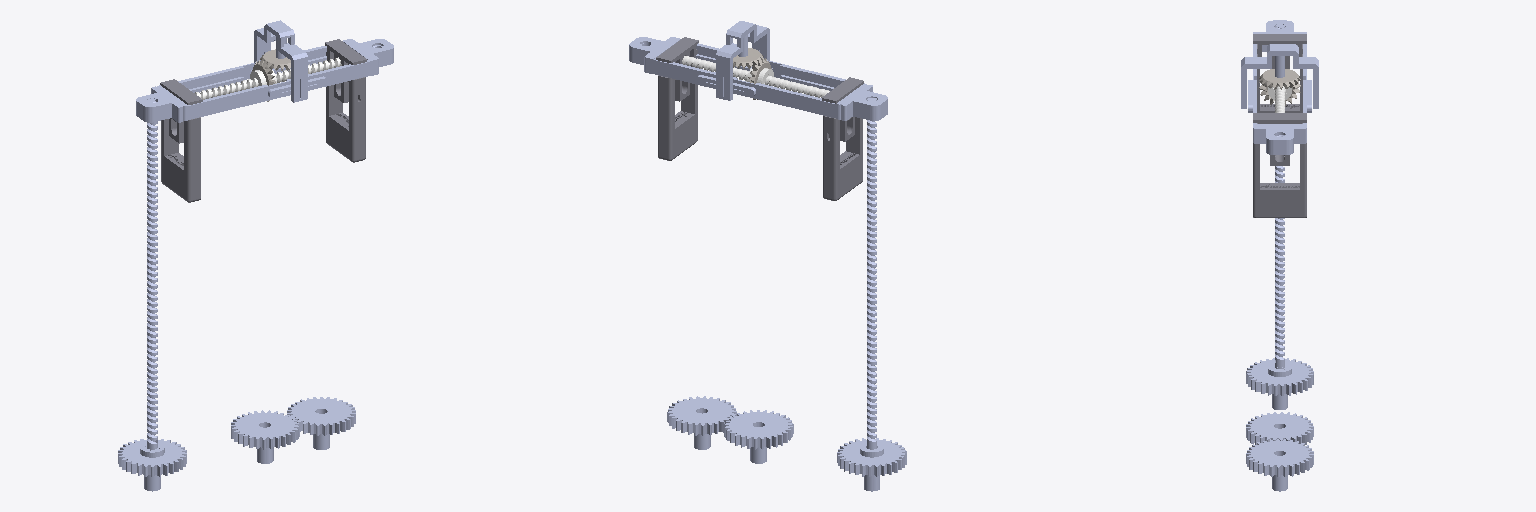
The robot description file, URDF, robot "solidworks2ros_try35":
<?xml version="1.0" encoding="utf-8"?>
<!-- This URDF was automatically created by SolidWorks to URDF Exporter! Originally created by [author] ([email redacted]) 
     Commit Version: 1.6.0-4-g7f85cfe  Build Version: 1.6.7995.38578
     For more information, please see http://wiki.ros.org/sw_urdf_exporter -->
<robot
  name="solidworks2ros_try35">

  <link name = "dummy">
  </link>

  <joint name="dummy_joint" type="fixed">
    <parent link="dummy"/>
    <child link="base_link"/>
  </joint>

  <link name="base_link">
    <inertial>
      <origin
        xyz="0.27421 -0.14456 0.35358"
        rpy="0 0 0" />
      <mass
        value="3338.7" />
      <inertia
        ixx="1620.8"
        ixy="5.8895E-06"
        ixz="0.005018"
        iyy="13518"
        iyz="-16.336"
        izz="14637" />
    </inertial>
    <visual>
      <origin
        xyz="0 0 0"
        rpy="0 0 0" />
      <geometry>
        <mesh
          filename="package://solidworks2ros_try35/meshes/base_link.STL" />
      </geometry>
      <material
        name="">
        <color
          rgba="0.79216 0.81961 0.93333 1" />
      </material>
    </visual>
    <collision>
      <origin
        xyz="0 0 0"
        rpy="0 0 0" />
      <geometry>
        <mesh
          filename="package://solidworks2ros_try35/meshes/base_link.STL" />
      </geometry>
    </collision>
  </link>

  <link
    name="link1">
    <inertial>
      <origin
        xyz="-0.0028443 0.0029656 1.6945"
        rpy="0 0 0" />
      <mass
        value="823.32" />
      <inertia
        ixx="2630.9"
        ixy="0.034568"
        ixz="-0.0063149"
        iyy="2630.9"
        iyz="0.23572"
        izz="118.2" />
    </inertial>
    <visual>
      <origin
        xyz="0 0 0"
        rpy="0 0 0" />
      <geometry>
        <mesh
          filename="package://solidworks2ros_try35/meshes/link1.STL" />
      </geometry>
      <material
        name="">
        <color
          rgba="0.79216 0.81961 0.93333 1" />
      </material>
    </visual>
    <collision>
      <origin
        xyz="0 0 0"
        rpy="0 0 0" />
      <geometry>
        <mesh
          filename="package://solidworks2ros_try35/meshes/link1.STL" />
      </geometry>
    </collision>
  </link>
  
  <joint
    name="joint1"
    type="continuous">
    <origin
      xyz="2.9619 -0.0029702 0.85629"
      rpy="0 0 0" />
    <parent
      link="base_link" />
    <child
      link="link1" />
    <axis
      xyz="0 0 -1" />
    <limit
      effort="100"
      velocity="2" />
  </joint>

  <link name="link2">
    <inertial>
      <origin
        xyz="0.0039258 0.0012118 -0.059794"
        rpy="0 0 0" />
      <mass
        value="479.53" />
      <inertia
        ixx="62.098"
        ixy="2.1851E-14"
        ixz="-1.9085E-13"
        iyy="62.098"
        iyz="-4.9674E-14"
        izz="114.95" />
    </inertial>
    <visual>
      <origin
        xyz="0 0 0"
        rpy="0 0 0" />
      <geometry>
        <mesh
          filename="package://solidworks2ros_try35/meshes/link2.STL" />
      </geometry>
      <material
        name="">
        <color
          rgba="0.79216 0.81961 0.93333 1" />
      </material>
    </visual>
    <collision>
      <origin
        xyz="0 0 0"
        rpy="0 0 0" />
      <geometry>
        <mesh
          filename="package://solidworks2ros_try35/meshes/link2.STL" />
      </geometry>
    </collision>
  </link>
  
  <joint name="joint2"
    type="continuous">
    <origin
      xyz="1.4756 -0.0012118 0.85629"
      rpy="0 0 0" />
    <parent
      link="base_link" />
    <child
      link="link2" />
    <axis
      xyz="0 0 -1" />
    <limit
      effort="100"
      velocity="2" />
  </joint>
  
  <link
    name="link3">
    <inertial>
      <origin
        xyz="-0.0028446 0.0029646 -0.059794"
        rpy="0 0 0" />
      <mass
        value="479.53" />
      <inertia
        ixx="62.098"
        ixy="-2.0492E-14"
        ixz="1.748E-13"
        iyy="62.098"
        iyz="1.8841E-14"
        izz="114.95" />
    </inertial>
    <visual>
      <origin
        xyz="0 0 0"
        rpy="0 0 0" />
      <geometry>
        <mesh
          filename="package://solidworks2ros_try35/meshes/link3.STL" />
      </geometry>
      <material
        name="">
        <color
          rgba="0.79216 0.81961 0.93333 1" />
      </material>
    </visual>
    <collision>
      <origin
        xyz="0 0 0"
        rpy="0 0 0" />
      <geometry>
        <mesh
          filename="package://solidworks2ros_try35/meshes/link3.STL" />
      </geometry>
    </collision>
  </link>
  <joint
    name="joint3"
    type="continuous">
    <origin
      xyz="0.0028446 -0.0029646 0.85629"
      rpy="0 0 0" />
    <parent
      link="base_link" />
    <child
      link="link3" />
    <axis
      xyz="0 0 -1" />
    <limit
      effort="100"
      velocity="2" />
  </joint>
  <link
    name="link4">
    <inertial>
      <origin
        xyz="0.0039363 0.0011773 -0.059794"
        rpy="0 0 0" />
      <mass
        value="479.53" />
      <inertia
        ixx="62.098"
        ixy="3.0743E-14"
        ixz="-3.4524E-14"
        iyy="62.098"
        iyz="-2.8969E-14"
        izz="114.95" />
    </inertial>
    <visual>
      <origin
        xyz="0 0 0"
        rpy="0 0 0" />
      <geometry>
        <mesh
          filename="package://solidworks2ros_try35/meshes/link4.STL" />
      </geometry>
      <material
        name="">
        <color
          rgba="0.79216 0.81961 0.93333 1" />
      </material>
    </visual>
    <collision>
      <origin
        xyz="0 0 0"
        rpy="0 0 0" />
      <geometry>
        <mesh
          filename="package://solidworks2ros_try35/meshes/link4.STL" />
      </geometry>
    </collision>
  </link>
  <joint
    name="joint4"
    type="continuous">
    <origin
      xyz="-1.4835 -0.0011773 0.85629"
      rpy="0 0 0" />
    <parent
      link="base_link" />
    <child
      link="link4" />
    <axis
      xyz="0 0 -1" />
    <limit
      effort="100"
      velocity="2" />
  </joint>
  <link
    name="link5">
    <inertial>
      <origin
        xyz="-0.0040861 0.00049413 1.6945"
        rpy="0 0 0" />
      <mass
        value="823.32" />
      <inertia
        ixx="2630.9"
        ixy="0.0059088"
        ixz="0.17812"
        iyy="2630.8"
        iyz="0.15453"
        izz="118.2" />
    </inertial>
    <visual>
      <origin
        xyz="0 0 0"
        rpy="0 0 0" />
      <geometry>
        <mesh
          filename="package://solidworks2ros_try35/meshes/link5.STL" />
      </geometry>
      <material
        name="">
        <color
          rgba="0.79216 0.81961 0.93333 1" />
      </material>
    </visual>
    <collision>
      <origin
        xyz="0 0 0"
        rpy="0 0 0" />
      <geometry>
        <mesh
          filename="package://solidworks2ros_try35/meshes/link5.STL" />
      </geometry>
    </collision>
  </link>
  <joint
    name="joint5"
    type="continuous">
    <origin
      xyz="-2.955 -0.00049273 0.85629"
      rpy="0 0 0" />
    <parent
      link="base_link" />
    <child
      link="link5" />
    <axis
      xyz="0 0 -1" />
    <limit
      effort="100"
      velocity="2" />
  </joint>
  <link
    name="link6">
    <inertial>
      <origin
        xyz="-0.29136 0.0012221 -0.36273"
        rpy="0 0 0" />
      <mass
        value="1056.6" />
      <inertia
        ixx="266.76"
        ixy="-1.8648E-06"
        ixz="1.3768E-13"
        iyy="884.97"
        iyz="-1.0553"
        izz="1059.3" />
    </inertial>
    <visual>
      <origin
        xyz="0 0 0"
        rpy="0 0 0" />
      <geometry>
        <mesh
          filename="package://solidworks2ros_try35/meshes/link6.STL" />
      </geometry>
      <material
        name="">
        <color
          rgba="0.79216 0.81961 0.93333 1" />
      </material>
    </visual>
    <collision>
      <origin
        xyz="0 0 0"
        rpy="0 0 0" />
      <geometry>
        <mesh
          filename="package://solidworks2ros_try35/meshes/link6.STL" />
      </geometry>
    </collision>
  </link>
  <joint
    name="joint6"
    type="prismatic">
    <origin
      xyz="0.41726 0 10.132"
      rpy="0 0 0" />
    <parent
      link="base_link" />
    <child
      link="link6" />
    <axis
      xyz="0 0 1" />
    <limit
      lower="-2"
      upper="5"
      effort="1"
      velocity="2" />
  </joint>
  <link
    name="link7">
    <inertial>
      <origin
        xyz="-0.96876 -0.00015639 -0.00040474"
        rpy="0 0 0" />
      <mass
        value="110.61" />
      <inertia
        ixx="1.7188"
        ixy="-0.036134"
        ixz="0.032169"
        iyy="65.104"
        iyz="0.0012089"
        izz="65.105" />
    </inertial>
    <visual>
      <origin
        xyz="0 0 0"
        rpy="0 0 0" />
      <geometry>
        <mesh
          filename="package://solidworks2ros_try35/meshes/link7.STL" />
      </geometry>
      <material
        name="">
        <color
          rgba="1 1 1 1" />
      </material>
    </visual>
    <collision>
      <origin
        xyz="0 0 0"
        rpy="0 0 0" />
      <geometry>
        <mesh
          filename="package://solidworks2ros_try35/meshes/link7.STL" />
      </geometry>
    </collision>
  </link>
  <joint
    name="joint7"
    type="continuous">
    <origin
      xyz="-0.4572 0 -0.508"
      rpy="0 0 0" />
    <parent
      link="link6" />
    <child
      link="link7" />
    <axis
      xyz="1 0 0" />
    <limit
      effort="100"
      velocity="2" />
  </joint>
  <link
    name="lilnk8">
    <inertial>
      <origin
        xyz="0.95535 -9.33E-06 0.00043383"
        rpy="0 0 0" />
      <mass
        value="110.61" />
      <inertia
        ixx="1.7188"
        ixy="0.044925"
        ixz="0.017952"
        iyy="65.103"
        iyz="-0.00056874"
        izz="65.106" />
    </inertial>
    <visual>
      <origin
        xyz="0 0 0"
        rpy="0 0 0" />
      <geometry>
        <mesh
          filename="package://solidworks2ros_try35/meshes/lilnk8.STL" />
      </geometry>
      <material
        name="">
        <color
          rgba="1 1 1 1" />
      </material>
    </visual>
    <collision>
      <origin
        xyz="0 0 0"
        rpy="0 0 0" />
      <geometry>
        <mesh
          filename="package://solidworks2ros_try35/meshes/lilnk8.STL" />
      </geometry>
    </collision>
  </link>
  <joint
    name="joint8"
    type="continuous">
    <origin
      xyz="-0.4572 0 -0.508"
      rpy="0 0 0" />
    <parent
      link="link6" />
    <child
      link="lilnk8" />
    <axis
      xyz="1 0 0" />
    <limit
      effort="100"
      velocity="2" />
  </joint>
  <link
    name="link9">
    <inertial>
      <origin
        xyz="0.00016455 -0.0013229 -0.40635"
        rpy="0 0 0" />
      <mass
        value="748.8" />
      <inertia
        ixx="599.5"
        ixy="0.013919"
        ixz="0.066567"
        iyy="492.8"
        iyz="0.43831"
        izz="124.43" />
    </inertial>
    <visual>
      <origin
        xyz="0 0 0"
        rpy="0 0 0" />
      <geometry>
        <mesh
          filename="package://solidworks2ros_try35/meshes/link9.STL" />
      </geometry>
      <material
        name="">
        <color
          rgba="0.58824 0.58824 0.63137 1" />
      </material>
    </visual>
    <collision>
      <origin
        xyz="0 0 0"
        rpy="0 0 0" />
      <geometry>
        <mesh
          filename="package://solidworks2ros_try35/meshes/link9.STL" />
      </geometry>
    </collision>
  </link>
  <joint
    name="joint9"
    type="prismatic">
    <origin
      xyz="-2.6144 0 -1.27"
      rpy="0 0 0" />
    <parent
      link="link6" />
    <child
      link="link9" />
    <axis
      xyz="1 0 0" />
    <limit
      lower="0"
      upper="0"
      effort="100"
      velocity="2" />
  </joint>
  <link
    name="link10">
    <inertial>
      <origin
        xyz="-0.00016455 0.0013229 -0.40635"
        rpy="0 0 0" />
      <mass
        value="748.8" />
      <inertia
        ixx="599.5"
        ixy="0.013919"
        ixz="-0.066567"
        iyy="492.8"
        iyz="-0.43831"
        izz="124.43" />
    </inertial>
    <visual>
      <origin
        xyz="0 0 0"
        rpy="0 0 0" />
      <geometry>
        <mesh
          filename="package://solidworks2ros_try35/meshes/link10.STL" />
      </geometry>
      <material
        name="">
        <color
          rgba="0.58824 0.58824 0.63137 1" />
      </material>
    </visual>
    <collision>
      <origin
        xyz="0 0 0"
        rpy="0 0 0" />
      <geometry>
        <mesh
          filename="package://solidworks2ros_try35/meshes/link10.STL" />
      </geometry>
    </collision>
  </link>
  <joint
    name="joint10"
    type="prismatic">
    <origin
      xyz="1.7 0 -1.27"
      rpy="0 0 0" />
    <parent
      link="link6" />
    <child
      link="link10" />
    <axis
      xyz="1 0 0" />
    <limit
      lower="0"
      upper="0"
      effort="100"
      velocity="2" />
  </joint>
  <link
    name="link11">
    <inertial>
      <origin
        xyz="2.5705E-11 7.4808E-11 -0.064749"
        rpy="0 0 0" />
      <mass
        value="70.221" />
      <inertia
        ixx="3.3885"
        ixy="5.3501E-08"
        ixz="1.0697E-10"
        iyy="3.3885"
        iyz="3.2471E-10"
        izz="6.5667" />
    </inertial>
    <visual>
      <origin
        xyz="0 0 0"
        rpy="0 0 0" />
      <geometry>
        <mesh
          filename="package://solidworks2ros_try35/meshes/link11.STL" />
      </geometry>
      <material
        name="">
        <color
          rgba="0.77647 0.75686 0.73725 1" />
      </material>
    </visual>
    <collision>
      <origin
        xyz="0 0 0"
        rpy="0 0 0" />
      <geometry>
        <mesh
          filename="package://solidworks2ros_try35/meshes/link11.STL" />
      </geometry>
    </collision>
  </link>
  <joint
    name="joint11"
    type="continuous">
    <origin
      xyz="0 0 0"
      rpy="0 0 0" />
    <parent
      link="link6" />
    <child
      link="link11" />
    <axis
      xyz="0 0 -1" />
    <limit
      effort="100"
      velocity="2" />
  </joint>
  <link
    name="link12">
    <inertial>
      <origin
        xyz="-0.0040775 3.9634E-05 -0.00057525"
        rpy="0 0 0" />
      <mass
        value="69.71" />
      <inertia
        ixx="7.0137"
        ixy="7.2533E-06"
        ixz="-0.00010526"
        iyy="3.6371"
        iyz="-0.00041872"
        izz="3.6431" />
    </inertial>
    <visual>
      <origin
        xyz="0 0 0"
        rpy="0 0 0" />
      <geometry>
        <mesh
          filename="package://solidworks2ros_try35/meshes/link12.STL" />
      </geometry>
      <material
        name="">
        <color
          rgba="0.77647 0.75686 0.73725 1" />
      </material>
    </visual>
    <collision>
      <origin
        xyz="0 0 0"
        rpy="0 0 0" />
      <geometry>
        <mesh
          filename="package://solidworks2ros_try35/meshes/link12.STL" />
      </geometry>
    </collision>
  </link>
  <joint
    name="joint12"
    type="continuous">
    <origin
      xyz="-0.4572 0 -0.508"
      rpy="0 0 0" />
    <parent
      link="link6" />
    <child
      link="link12" />
    <axis
      xyz="1 0 0" />
    <limit
      effort="100"
      velocity="2" />
  </joint>

  <transmission name="trans1">
    <type>transmission_interface/SimpleTransmission</type>
    <joint name="joint1">
      <hardwareInterface>hardware_interface/VelocityJointInterface</hardwareInterface>
    </joint>
    <actuator name="motor1">
      <hardwareInterface>hardware_interface/VelocityJointInterface</hardwareInterface>
      <mechanicalReduction>1</mechanicalReduction>
    </actuator>
  </transmission>

  <transmission name="trans2">
    <type>transmission_interface/SimpleTransmission</type>
    <joint name="joint2">
      <hardwareInterface>hardware_interface/VelocityJointInterface</hardwareInterface>
    </joint>
    <actuator name="motor2">
      <hardwareInterface>hardware_interface/VelocityJointInterface</hardwareInterface>
      <mechanicalReduction>1</mechanicalReduction>
    </actuator>
  </transmission>

  <transmission name="trans3">
    <type>transmission_interface/SimpleTransmission</type>
    <joint name="joint3">
      <hardwareInterface>hardware_interface/VelocityJointInterface</hardwareInterface>
    </joint>
    <actuator name="motor3">
      <hardwareInterface>hardware_interface/VelocityJointInterface</hardwareInterface>
      <mechanicalReduction>1</mechanicalReduction>
    </actuator>
  </transmission>

  <transmission name="trans4">
    <type>transmission_interface/SimpleTransmission</type>
    <joint name="joint4">
      <hardwareInterface>hardware_interface/VelocityJointInterface</hardwareInterface>
    </joint>
    <actuator name="motor4">
      <hardwareInterface>hardware_interface/VelocityJointInterface</hardwareInterface>
      <mechanicalReduction>1</mechanicalReduction>
    </actuator>
  </transmission>

  <transmission name="trans5">
    <type>transmission_interface/SimpleTransmission</type>
    <joint name="joint5">
      <hardwareInterface>hardware_interface/VelocityJointInterface</hardwareInterface>
    </joint>
    <actuator name="motor5">
      <hardwareInterface>hardware_interface/VelocityJointInterface</hardwareInterface>
      <mechanicalReduction>1</mechanicalReduction>
    </actuator>
  </transmission>

  <transmission name="trans6">
    <type>transmission_interface/SimpleTransmission</type>
    <joint name="joint6">
      <hardwareInterface>hardware_interface/PositionJointInterface</hardwareInterface>
    </joint>
    <actuator name="motor6">
      <hardwareInterface>hardware_interface/PositionJointInterface</hardwareInterface>
      <mechanicalReduction>1</mechanicalReduction>
    </actuator>
  </transmission>

  <!-- <gazebo reference="link1">
    <gravity>false</gravity>
  </gazebo>

  <gazebo reference="link2">
    <gravity>false</gravity>
  </gazebo>

  <gazebo reference="link3">
    <gravity>false</gravity>
  </gazebo>

  <gazebo reference="link4">
    <gravity>false</gravity>
  </gazebo>

  <gazebo reference="link5">
    <gravity>false</gravity>
  </gazebo> -->
  
  <!-- <gazebo reference="link6">
    <gravity>false</gravity>
  </gazebo>

  <gazebo reference="link7">
    <gravity>false</gravity>
  </gazebo>

  <gazebo reference="lilnk8">
    <gravity>false</gravity>
  </gazebo>

  <gazebo reference="link9">
    <gravity>false</gravity>
  </gazebo>

  <gazebo reference="link10">
    <gravity>false</gravity>
  </gazebo>

  <gazebo reference="link11">
    <gravity>false</gravity>
  </gazebo>

  <gazebo reference="link12">
    <gravity>false</gravity>
  </gazebo> -->

  
  <!-- Gazebo controller -->
  <gazebo>
      <plugin name="ros_control" filename="libgazebo_ros_control.so"/>
  </gazebo>


</robot>

--- Facts derived from the render (not from the file) ---
Views: 3 orthographic renders of the robot side by side, from view 1: azimuth 30°, elevation 25°; view 2: azimuth 150°, elevation 25°; view 3: azimuth 270°, elevation 25°.
Robot: solidworks2ros_try35 — 14 links, 13 joints (9 continuous, 3 prismatic, 1 fixed); root link dummy; default pose: every joint at zero.
Visible links, largest first — view 1: link6, link5, link10, link9, link3, link2, link7; view 2: link6, link5, link10, link9, link3, link2, link7; view 3: link6, link5, link10, link2, link3, link9, link11.
Link boxes in pixels (bbox=[...]): link6: bbox=[136, 20, 393, 122]; link5: bbox=[118, 98, 186, 491]; link10: bbox=[325, 39, 366, 162]; link9: bbox=[160, 79, 202, 202]; link3: bbox=[231, 410, 299, 463]; link2: bbox=[287, 397, 355, 449]; link7: bbox=[195, 70, 266, 99]; link6: bbox=[629, 21, 887, 120]; link5: bbox=[837, 98, 906, 491]; link10: bbox=[656, 37, 698, 160]; link9: bbox=[822, 77, 863, 200]; link3: bbox=[724, 410, 793, 463]; link2: bbox=[667, 396, 736, 449]; link7: bbox=[757, 68, 829, 97]; link6: bbox=[1241, 20, 1318, 154]; link5: bbox=[1246, 24, 1313, 409]; link10: bbox=[1253, 113, 1306, 217]; link2: bbox=[1246, 439, 1313, 491]; link3: bbox=[1246, 412, 1313, 444]; link9: bbox=[1253, 34, 1306, 112]; link11: bbox=[1259, 69, 1300, 89].
Bounding box of the posed robot: 7.02 × 1.79 × 10.75 m (x, y, z).
10 mesh visuals loaded from 13 distinct referenced files (10 binary STL); not drawn: 3 (reference not matched to a file when rendering).
